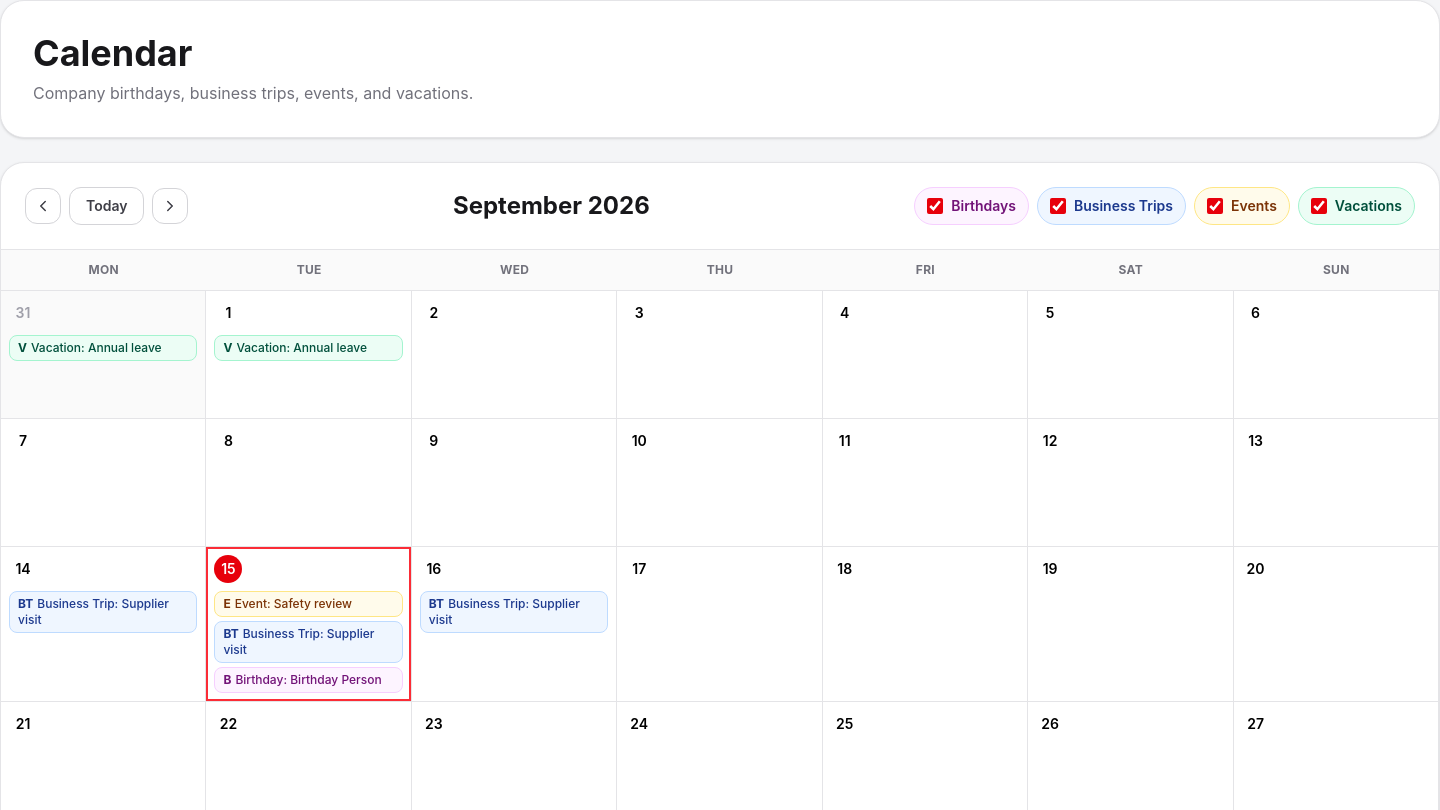
Test: CalendarPage › keeps non-admin Calendar viewing usable without management controls
Step 1. Click the button "EEvent: Safety review" → click(309, 604), box [215,592,402,616]
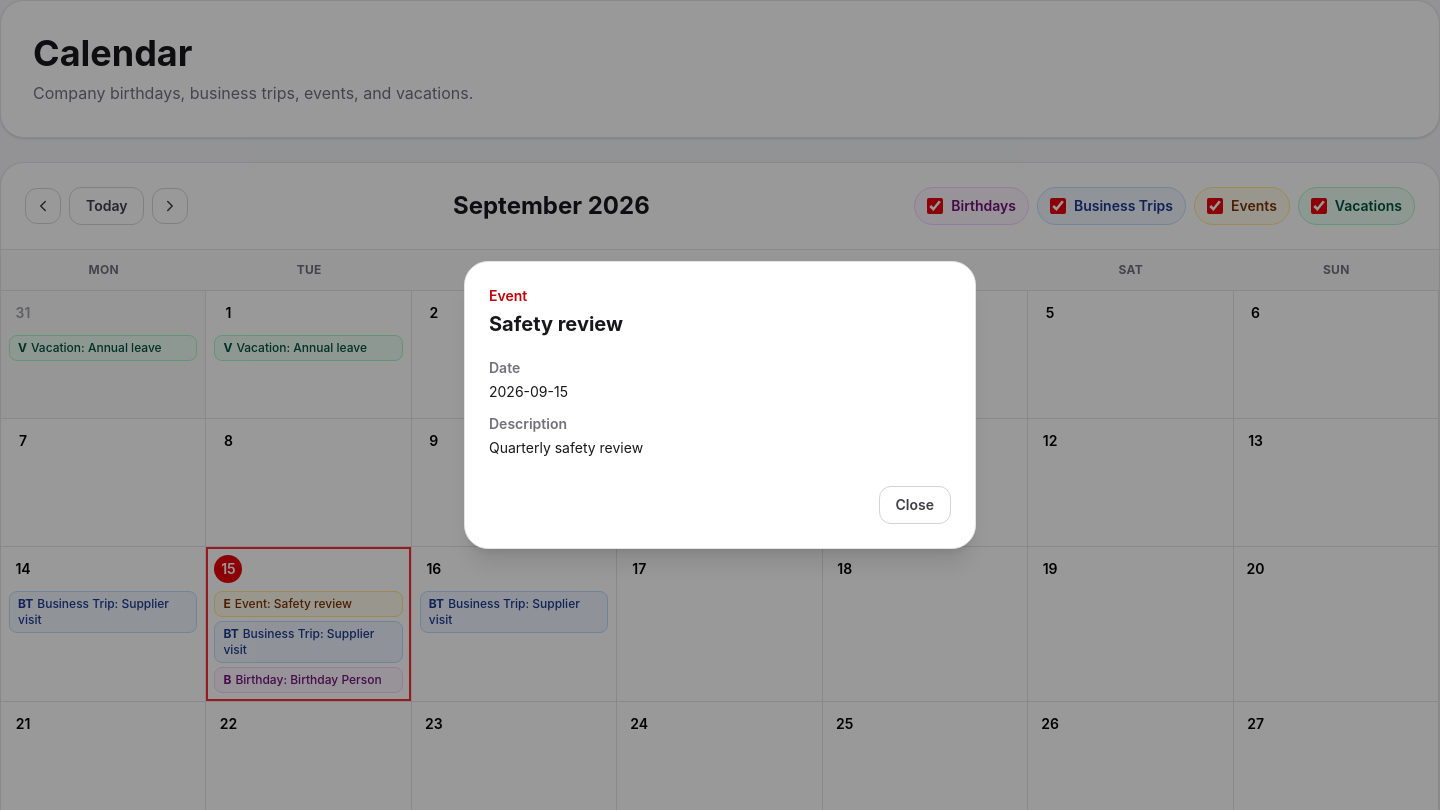
Check: the dialog shows "Quarterly safety review", box [489,439,643,456]
